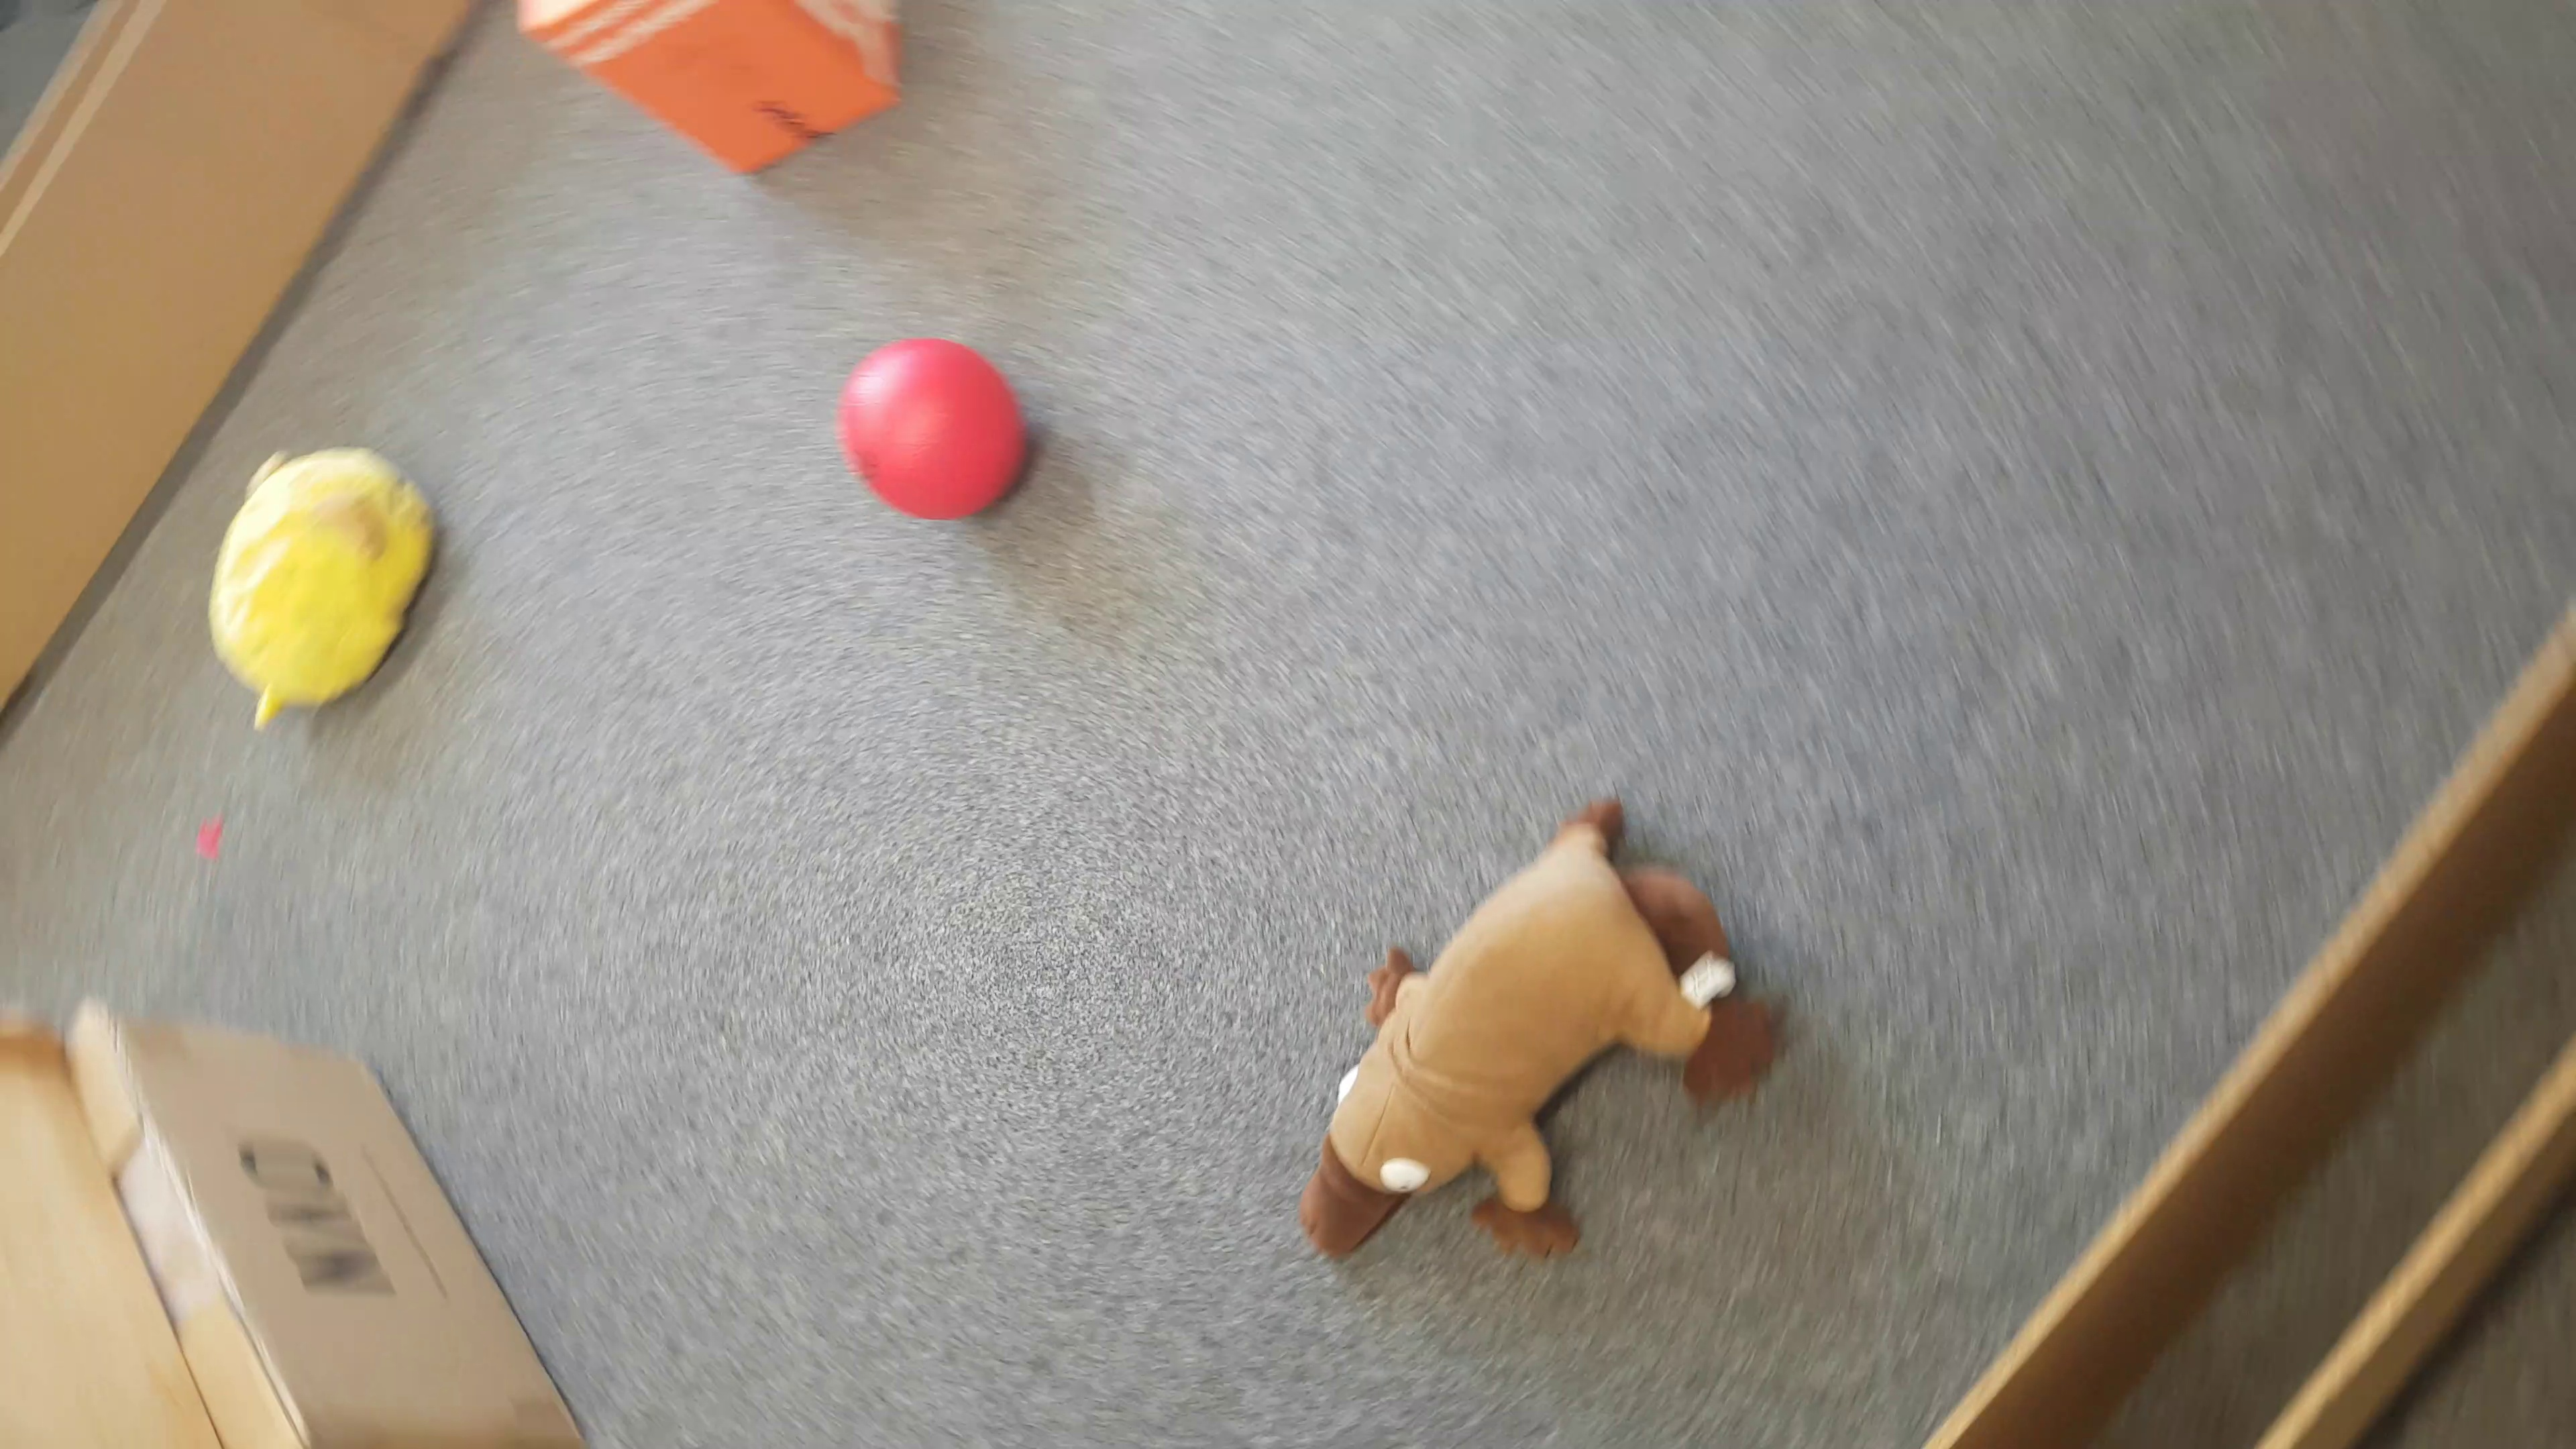grasp: (1299, 796, 1787, 1258), (211, 446, 435, 729)
kick: (835, 340, 1030, 529)
push: (522, 2, 899, 175)
